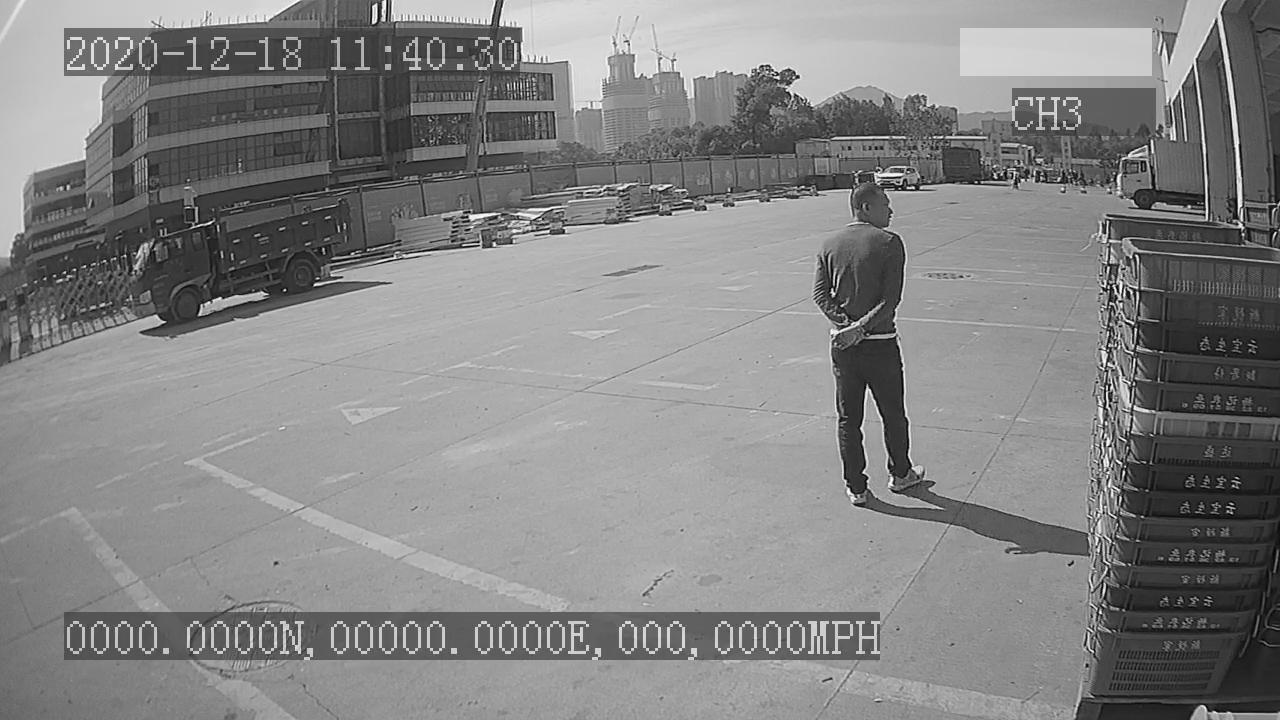person: (811, 182, 930, 506)
